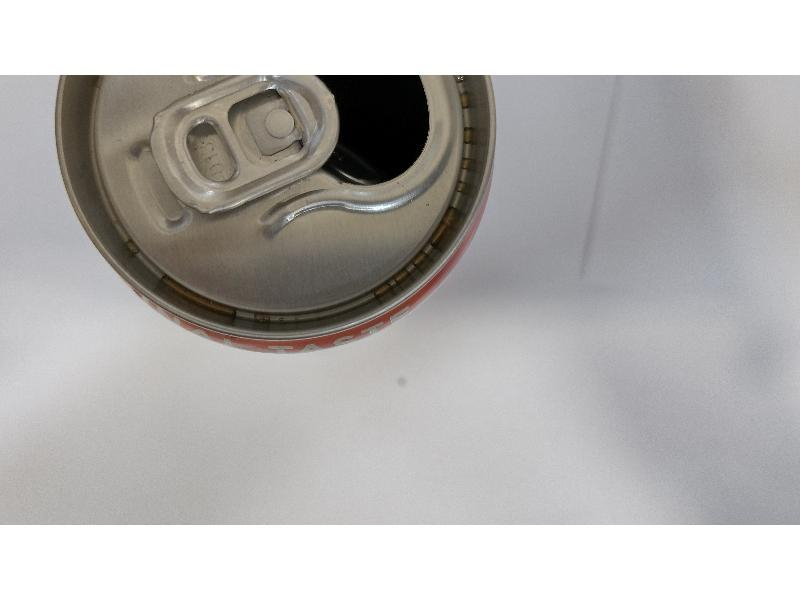can: (58, 76, 499, 355)
